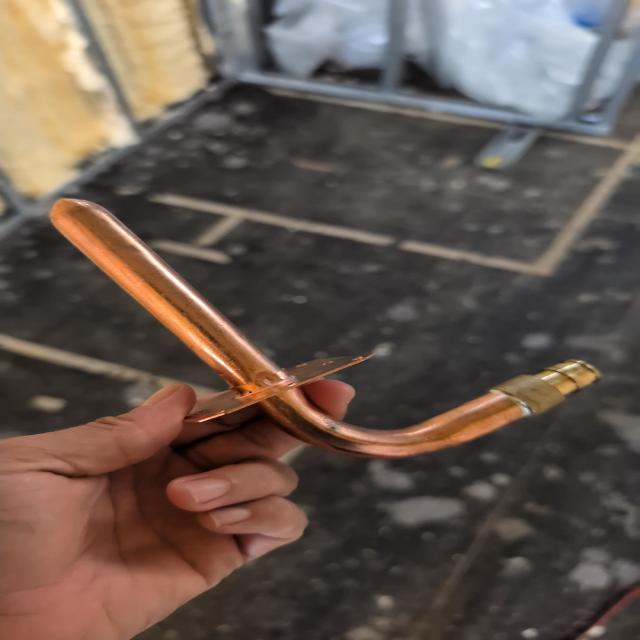wall_flange: (34, 192, 610, 460)
